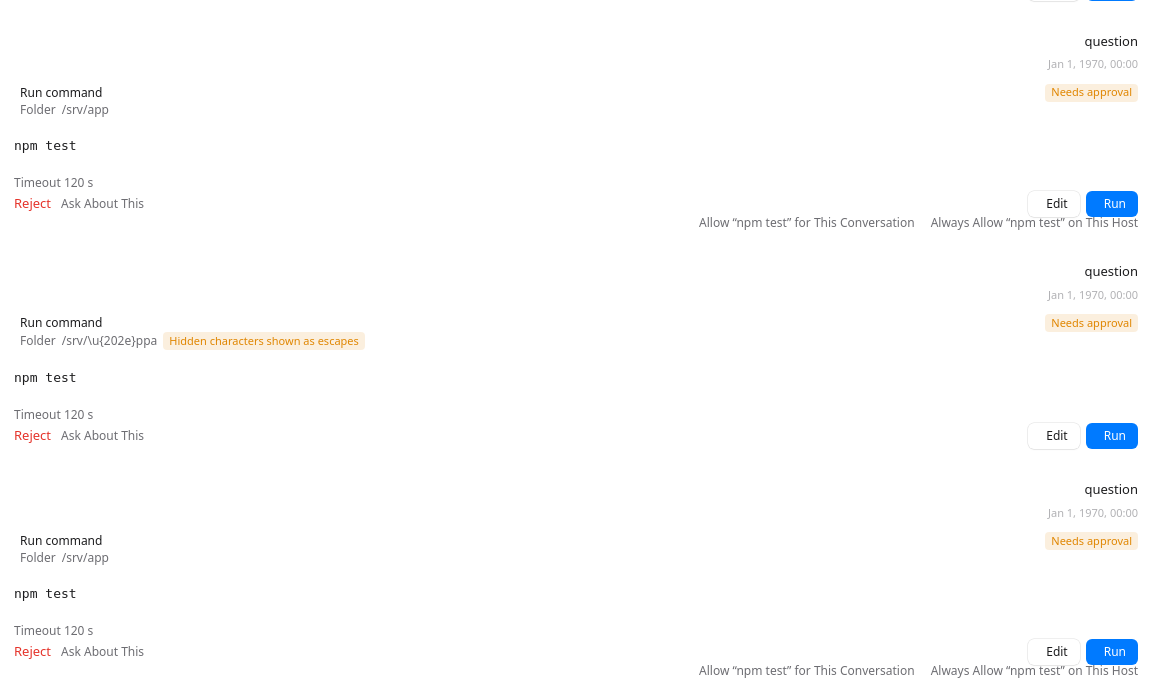
Test: a command's folder on the approval card (AI-17) › lets Edit change it, with the home folder for an empty one
(page scrolled)
What coordinates should you click on to do the following:
click the 4th button "Edit"
I would click on:
 (1054, 652)
Its box is top-left (1028, 639), bottom-right (1080, 665).
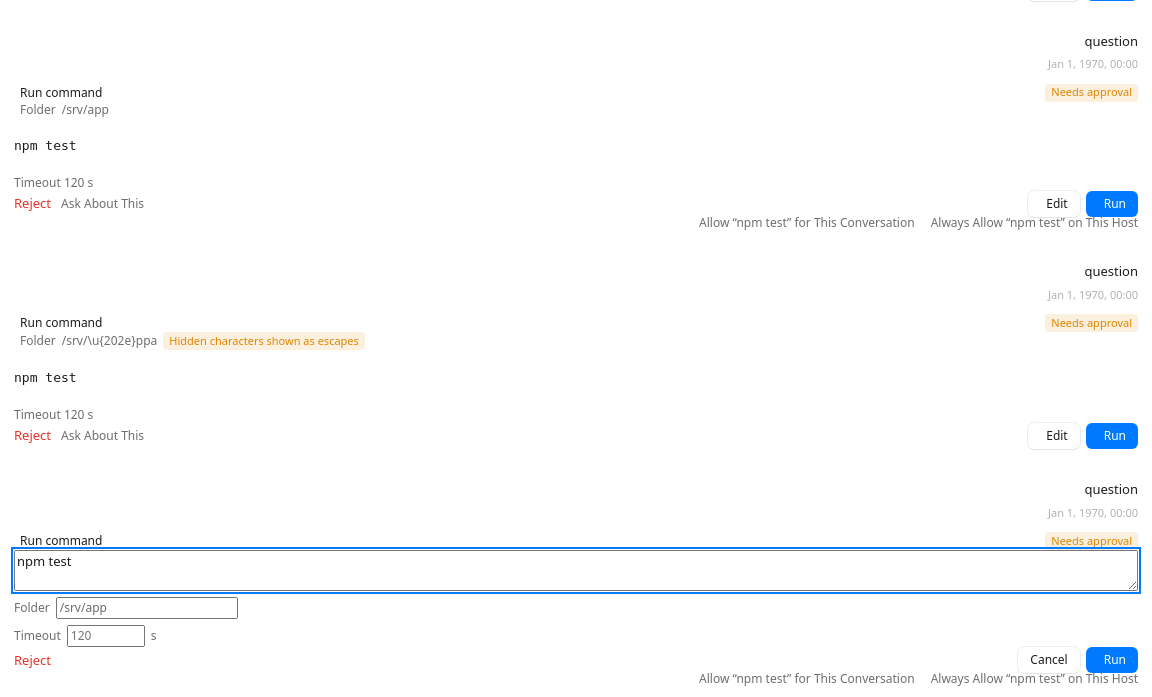
Expected: the field with placeholder "Home folder" holds "/srv/app", top-left (56, 597), bottom-right (238, 619)
